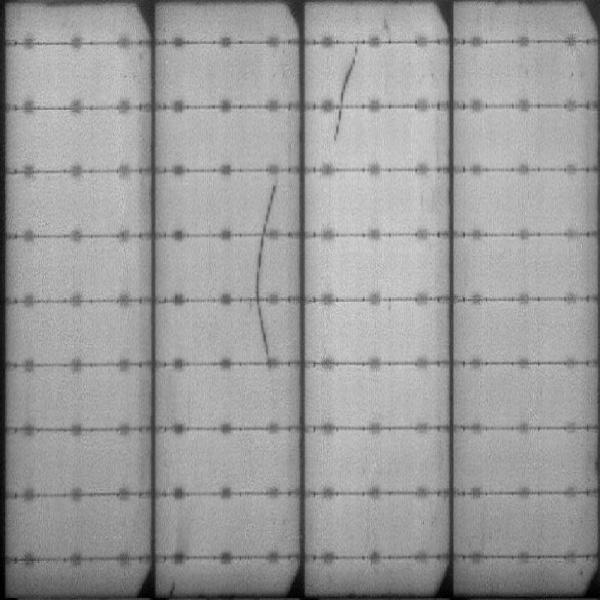scratch: (328, 42, 359, 144), (252, 303, 269, 363), (250, 237, 265, 299), (264, 178, 278, 234)
